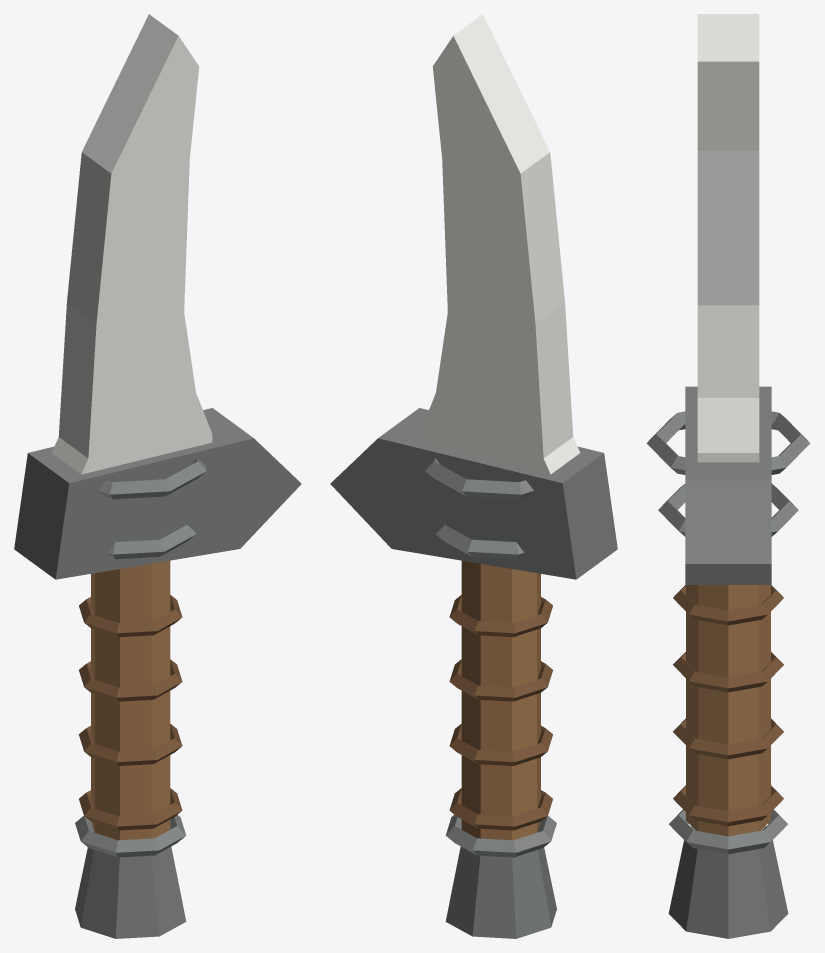
The model's file is t8_skinning_knife.glb.
The picture shows the model from 3 angles, left to right: view 1: azimuth 30°, elevation 25°; view 2: azimuth 150°, elevation 25°; view 3: azimuth 270°, elevation 25°; orthographic projection. The views are drawn at different scales.
Parts seen in each view (by area): view 1: CurvedSkinningBlade, BladeGuard, WoodHandle, BottomPommel, PommelBand, GuardRing, LeatherWrap1, LeatherWrap3, LeatherWrap4, LeatherWrap2, BladeCollar; view 2: CurvedSkinningBlade, BladeGuard, WoodHandle, BottomPommel, PommelBand, GuardRing, LeatherWrap1, LeatherWrap3, LeatherWrap4, LeatherWrap2, BladeCollar; view 3: CurvedSkinningBlade, WoodHandle, BladeGuard, BottomPommel, GuardRing, PommelBand, LeatherWrap1, LeatherWrap2, LeatherWrap3, LeatherWrap4, BladeCollar.
Boxes of the visible parts, x1=… form: CurvedSkinningBlade: x1=51, y1=14, x2=212, y2=474; BladeGuard: x1=14, y1=408, x2=301, y2=579; WoodHandle: x1=91, y1=560, x2=170, y2=840; BottomPommel: x1=75, y1=846, x2=186, y2=938; PommelBand: x1=75, y1=815, x2=186, y2=857; GuardRing: x1=98, y1=458, x2=206, y2=499; LeatherWrap1: x1=79, y1=788, x2=182, y2=830; LeatherWrap3: x1=79, y1=659, x2=182, y2=701; LeatherWrap4: x1=79, y1=595, x2=182, y2=637; LeatherWrap2: x1=79, y1=724, x2=182, y2=765; BladeCollar: x1=107, y1=525, x2=195, y2=559; CurvedSkinningBlade: x1=419, y1=14, x2=580, y2=474; BladeGuard: x1=330, y1=408, x2=617, y2=579; WoodHandle: x1=461, y1=560, x2=540, y2=840; BottomPommel: x1=445, y1=846, x2=556, y2=938; PommelBand: x1=445, y1=815, x2=556, y2=857; GuardRing: x1=425, y1=458, x2=533, y2=499; LeatherWrap1: x1=449, y1=788, x2=552, y2=830; LeatherWrap3: x1=449, y1=659, x2=552, y2=701; LeatherWrap4: x1=449, y1=595, x2=552, y2=637; LeatherWrap2: x1=449, y1=724, x2=552, y2=765; BladeCollar: x1=436, y1=525, x2=524, y2=559; CurvedSkinningBlade: x1=697, y1=14, x2=759, y2=462; WoodHandle: x1=686, y1=585, x2=770, y2=836; BladeGuard: x1=685, y1=386, x2=771, y2=584; BottomPommel: x1=668, y1=826, x2=788, y2=938; GuardRing: x1=646, y1=411, x2=810, y2=474; PommelBand: x1=669, y1=809, x2=787, y2=854; LeatherWrap1: x1=673, y1=785, x2=783, y2=826; LeatherWrap2: x1=673, y1=718, x2=783, y2=759; LeatherWrap3: x1=673, y1=652, x2=783, y2=692; LeatherWrap4: x1=673, y1=585, x2=783, y2=625; BladeCollar: x1=658, y1=483, x2=798, y2=536.
Bounding box in the file's own units: 0.36 × 1.23 × 0.2.
